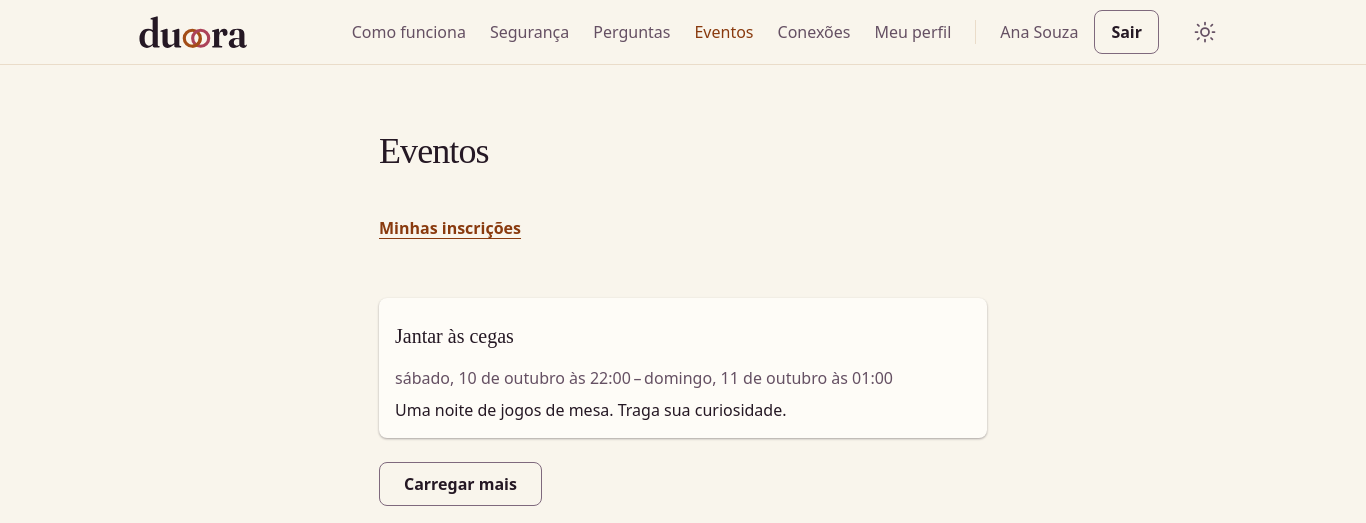
Test: events page › says it is loading the next page and blocks a second click meanwhile
Click the button "Carregar mais" at (460, 484), box [379,462,542,506]
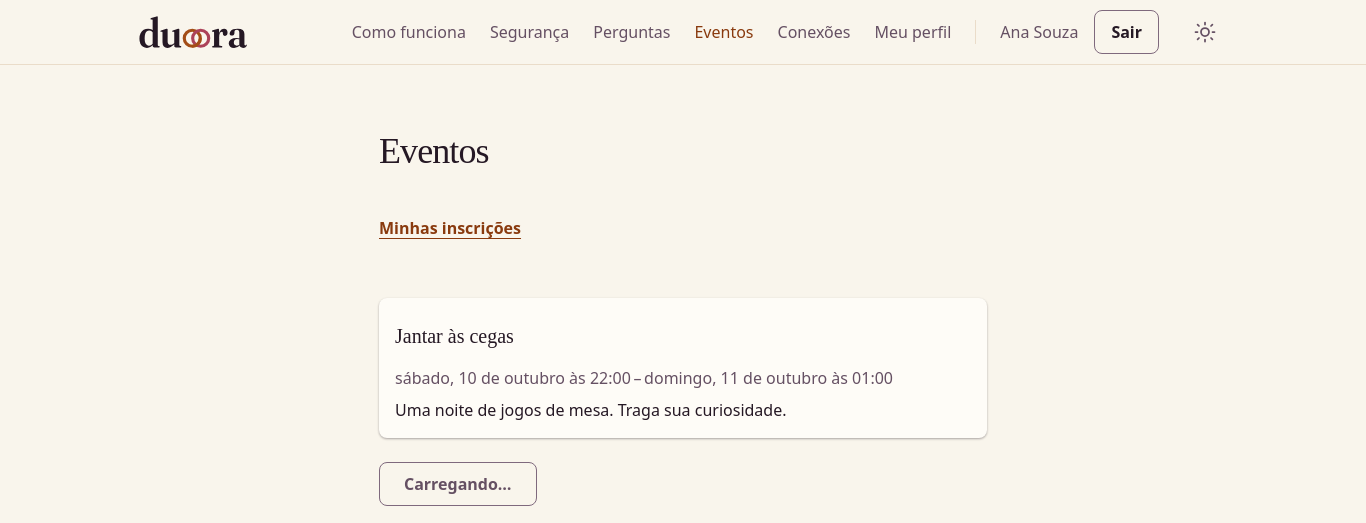
Result: the button "Carregando…" is disabled at [379,462,536,506]
